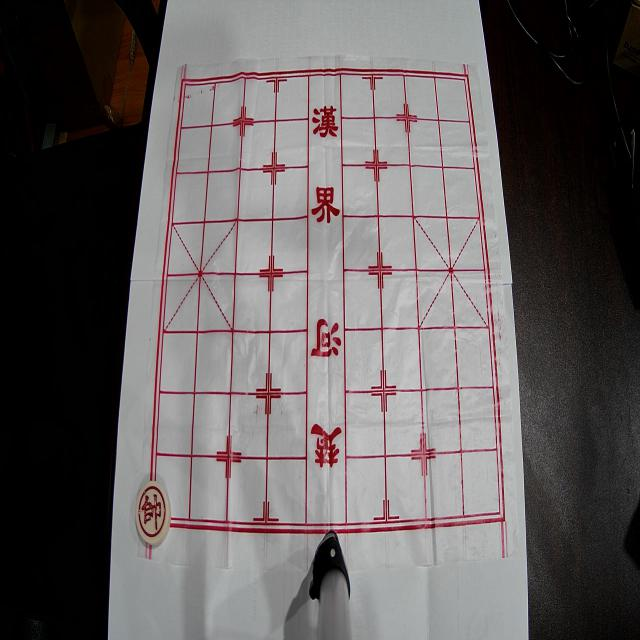red-general: (136, 480, 170, 546)
